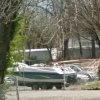Boat: (13, 46, 88, 94)
